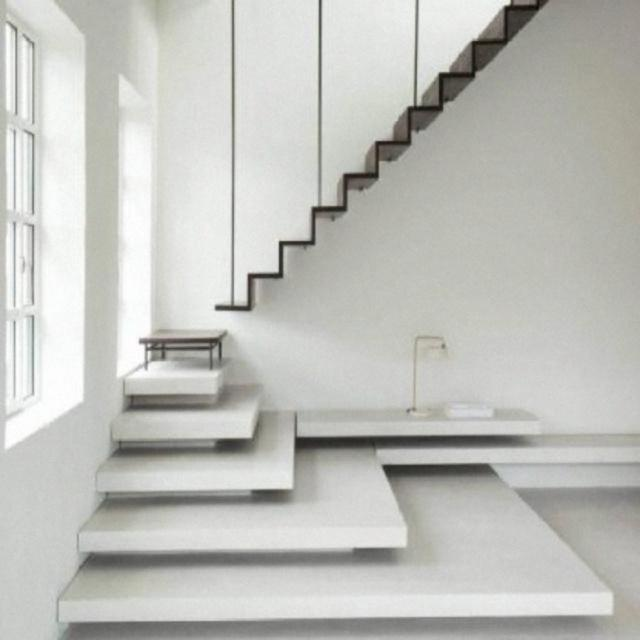stair: (38, 314, 612, 636), (157, 3, 574, 306)
